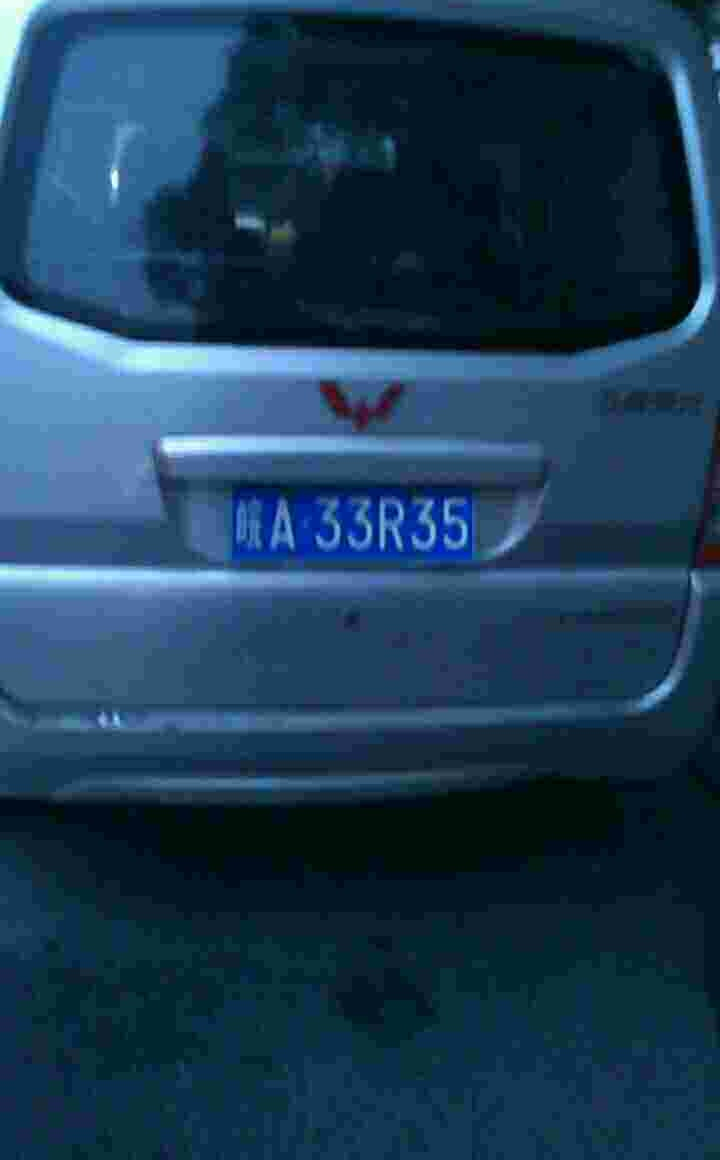license_plate: (204, 480, 498, 567)
